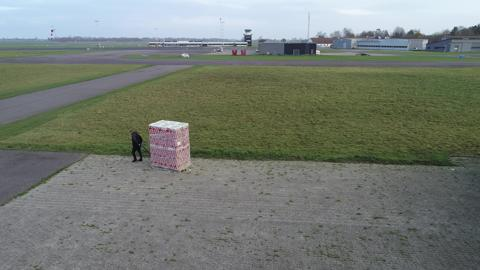RockwoolPallet: (148, 119, 193, 172)
